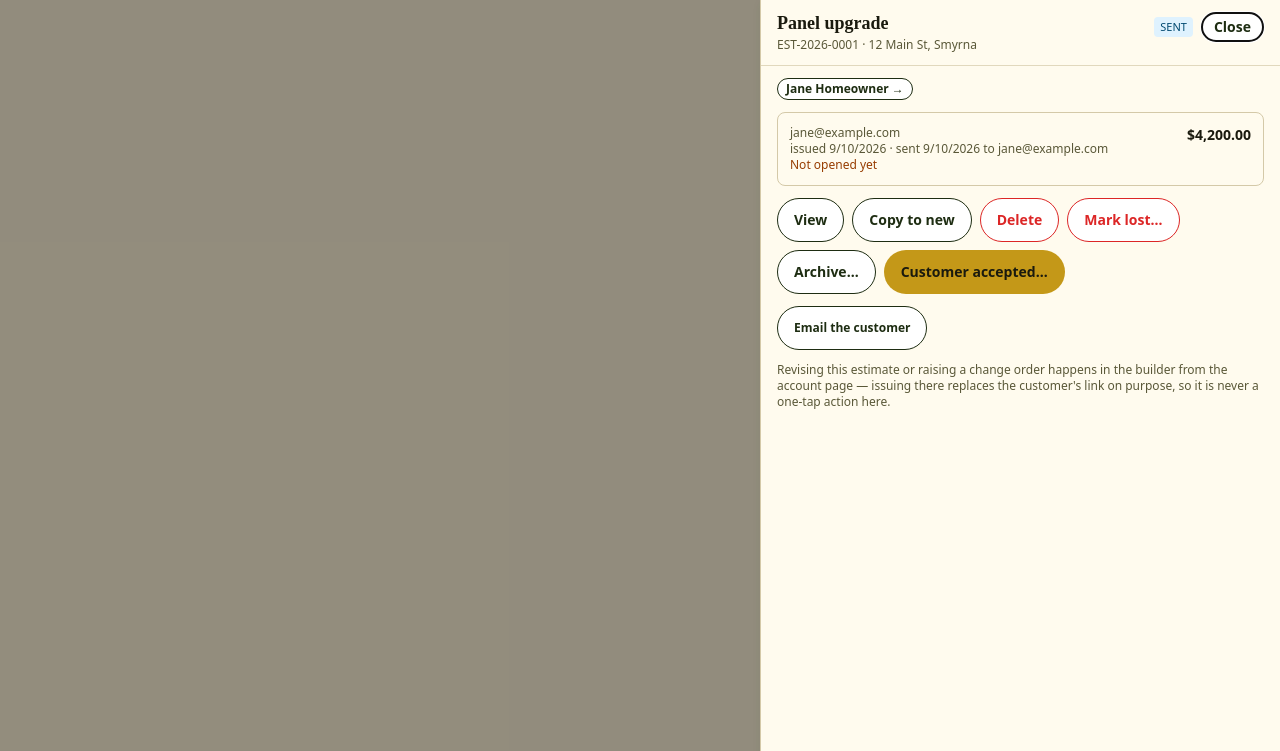
EstimateDrawer — the ONE email control (Estimate · Financing link · Message) › is on an unsigned estimate; the financing link goes through the one send, to the customer on file
The width and height of the screenshot is (1280, 751).
Click the button "Email the customer" at (852, 328), box 777,306 -> 928,350
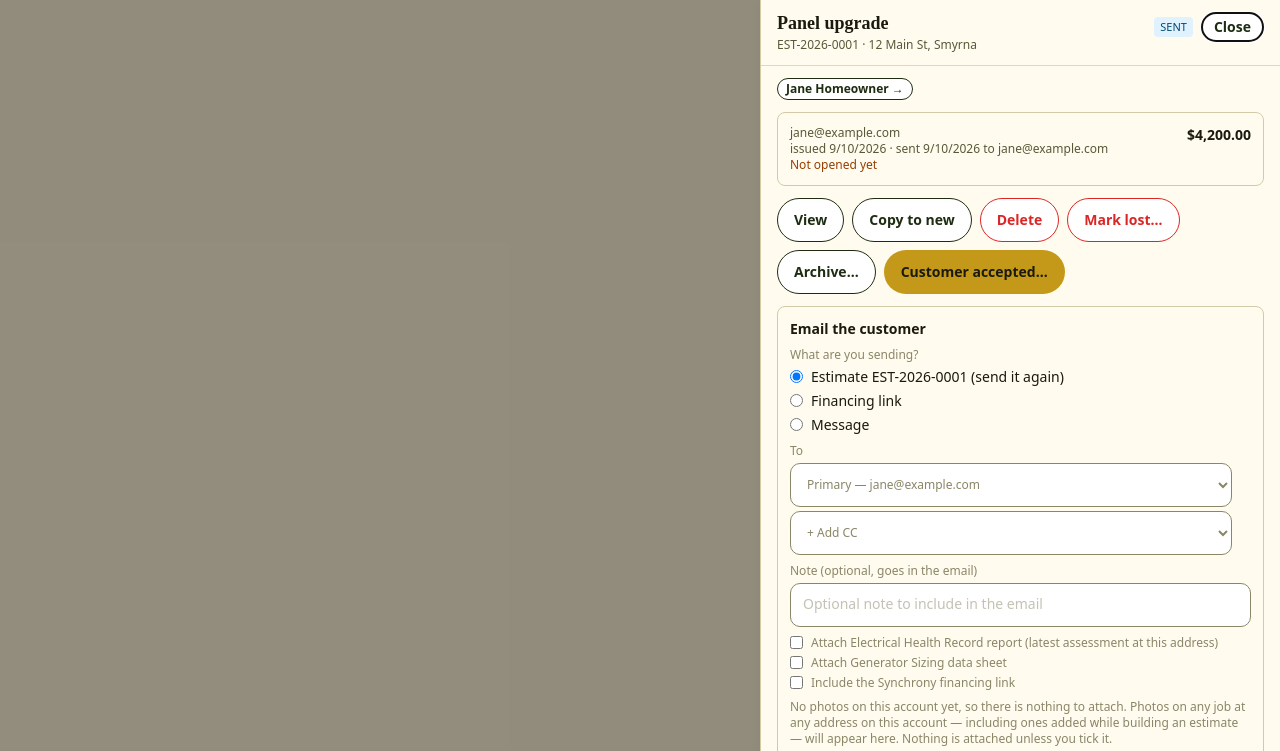
Click the radio button labelled "Financing link" at (796, 400), box 790,394 -> 803,407
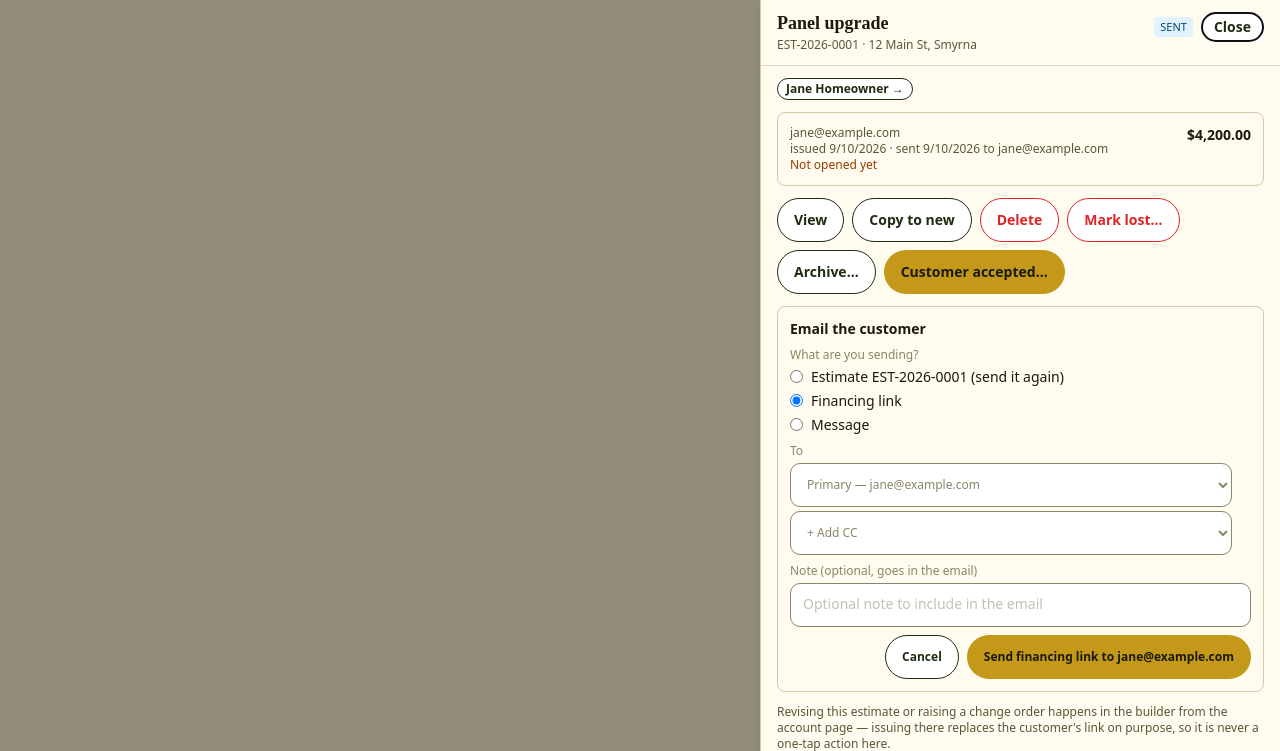
Click the button "Send financing link to jane@example.com" at (1109, 656), box 967,634 -> 1251,678
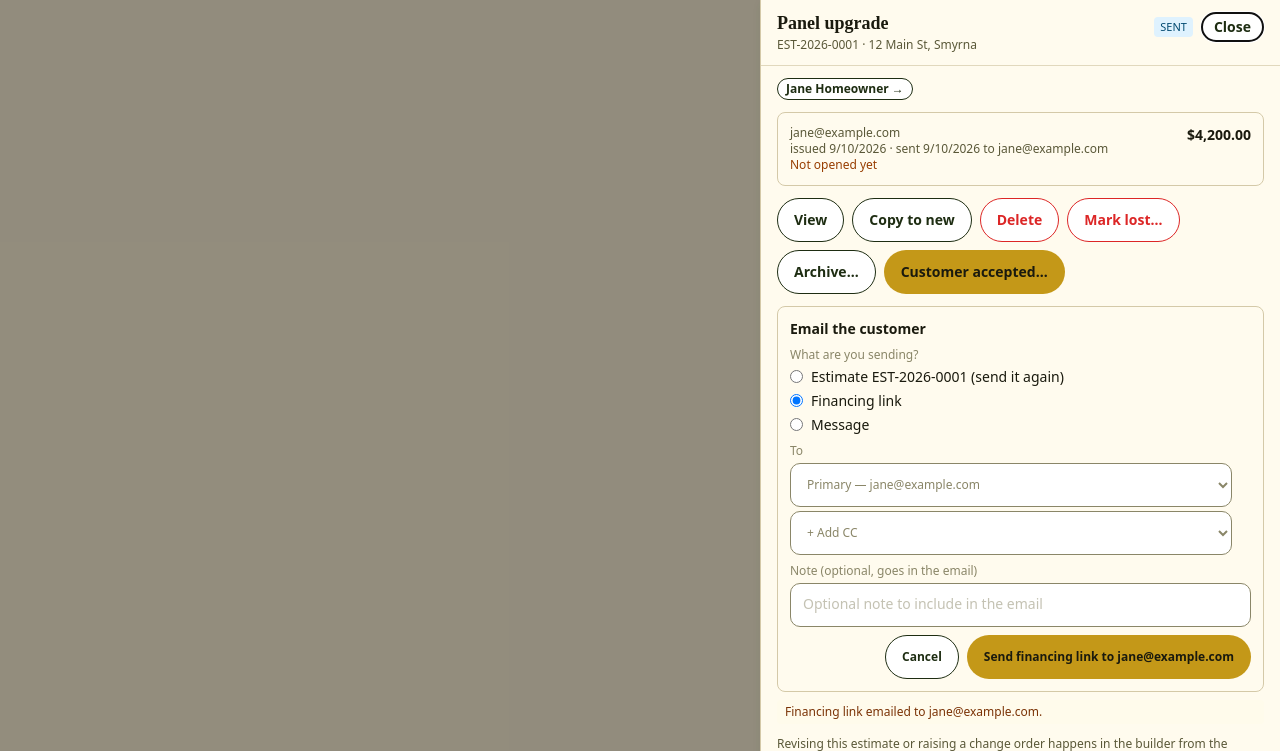
Check: the text "Financing link emailed to jane@example.com." is shown, box 777,700 -> 1264,724
